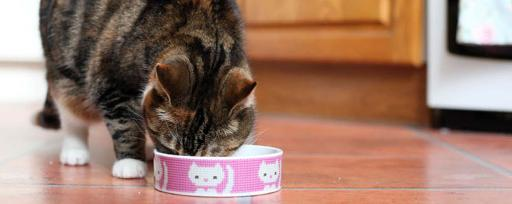cat_eating: (37, 0, 283, 197)
